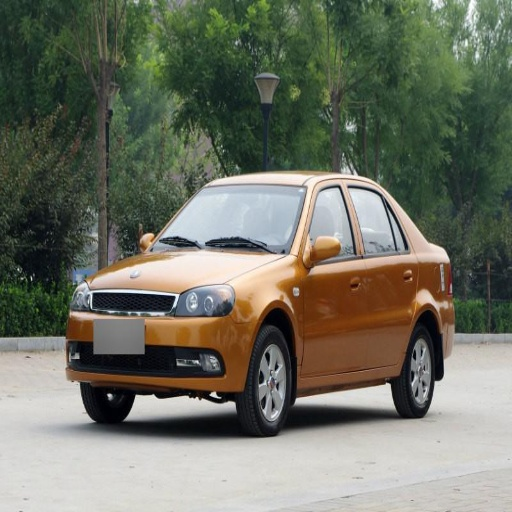back_left_door: (346, 180, 417, 367)
front_bumper: (69, 290, 258, 392)
front_glass: (158, 188, 305, 253)
front_left_door: (306, 180, 366, 376)
